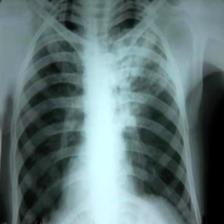tuberculosis: (9, 0, 202, 224)
